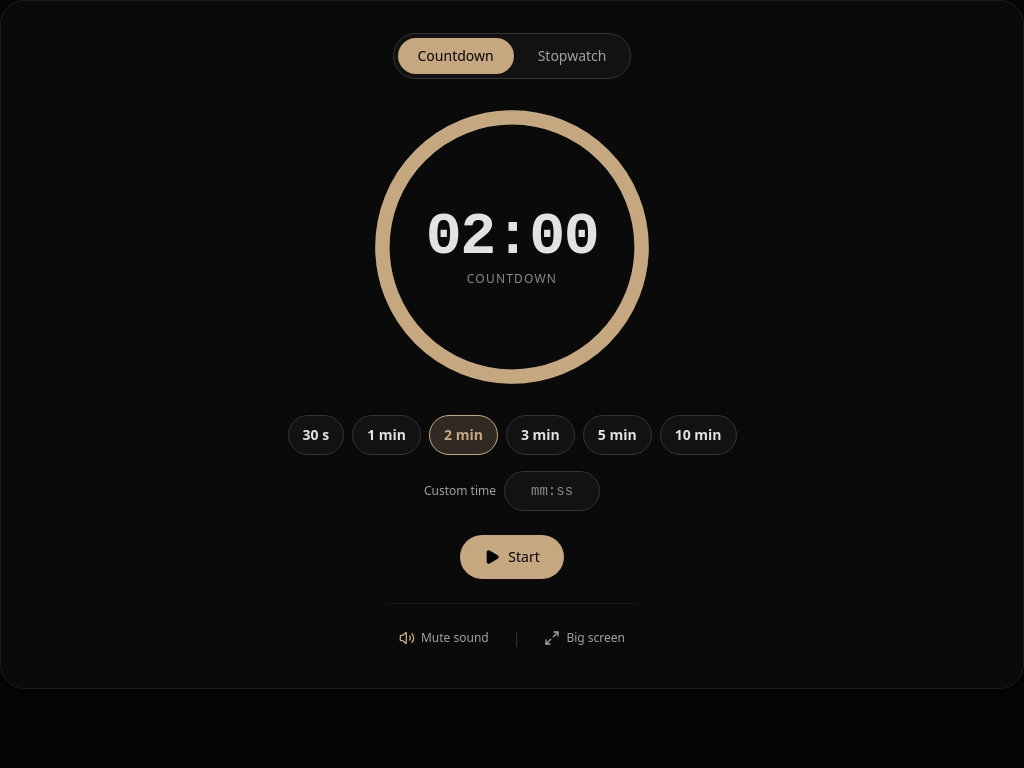
ClassroomTimer (SDD/2026-10-03_05-cronometro-visual.md) › CT01 / CA01: starts 2 min preset at 02:00 and decreases every second
This screenshot has width=1024, height=768.
Click the button "2 min". click: (463, 435)
box: [429,415,498,455]
Wait 2000 ms
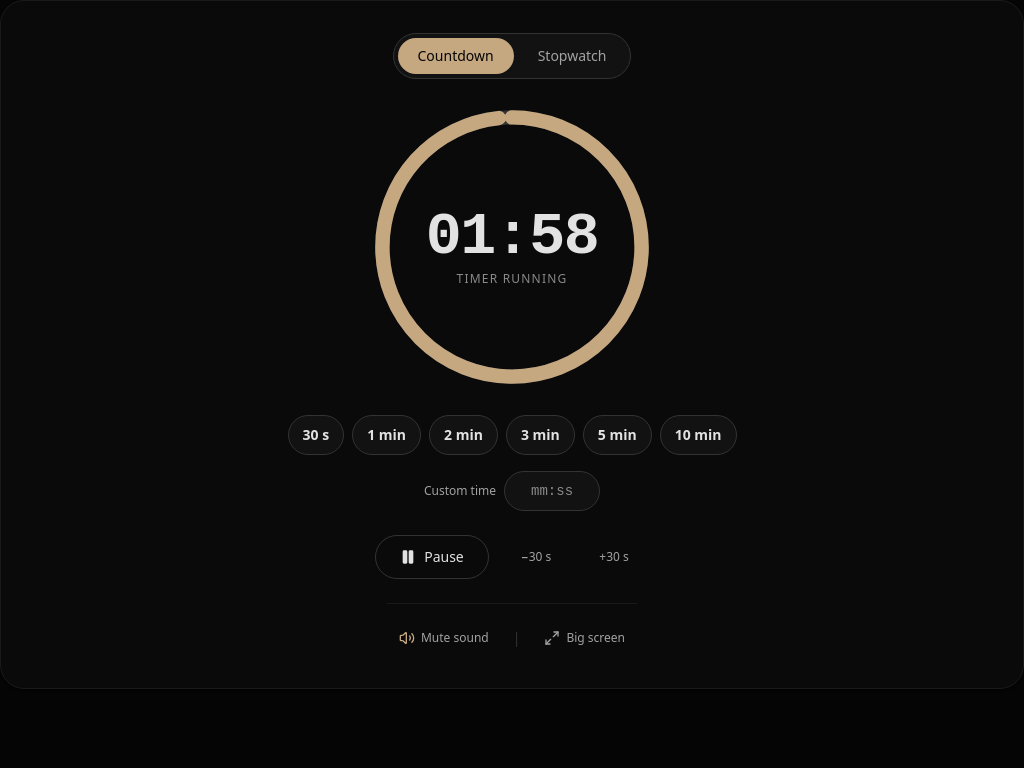
Now the text "01:58" is shown, box [426,207,598,267]
